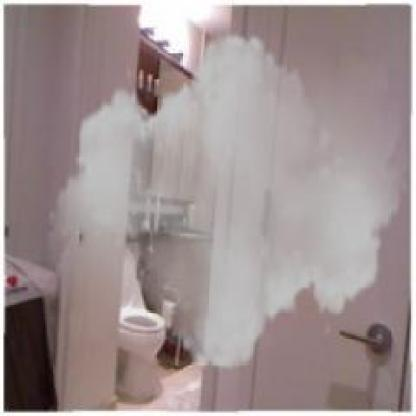Smoke: (49, 18, 409, 384)
